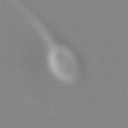normal: (14, 1, 58, 47)
